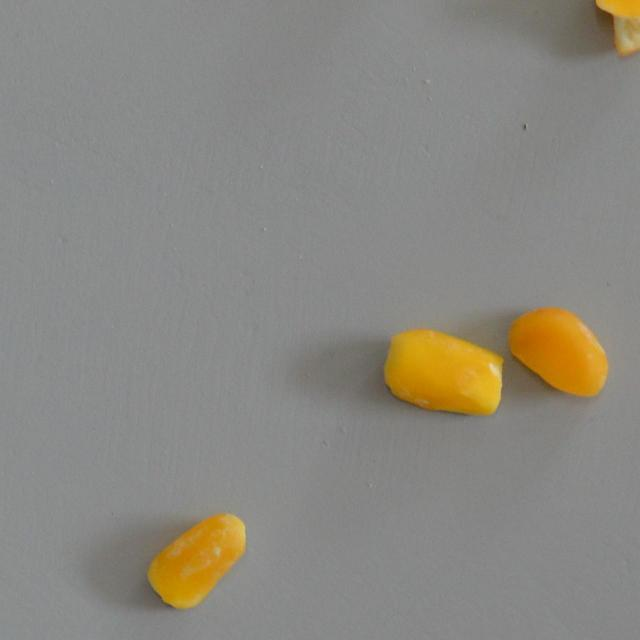dañado: (506, 306, 610, 399)
pelicula: (380, 320, 510, 427), (145, 511, 252, 608)
punto_negro: (591, 0, 640, 60)
